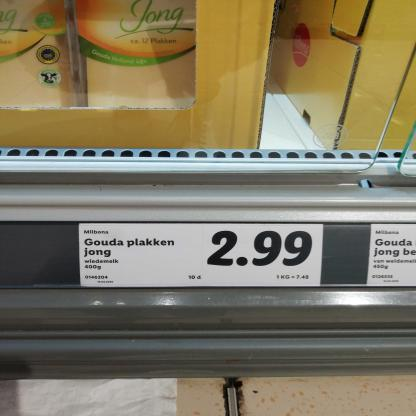prtg: (80, 225, 324, 288), (367, 225, 415, 286)
